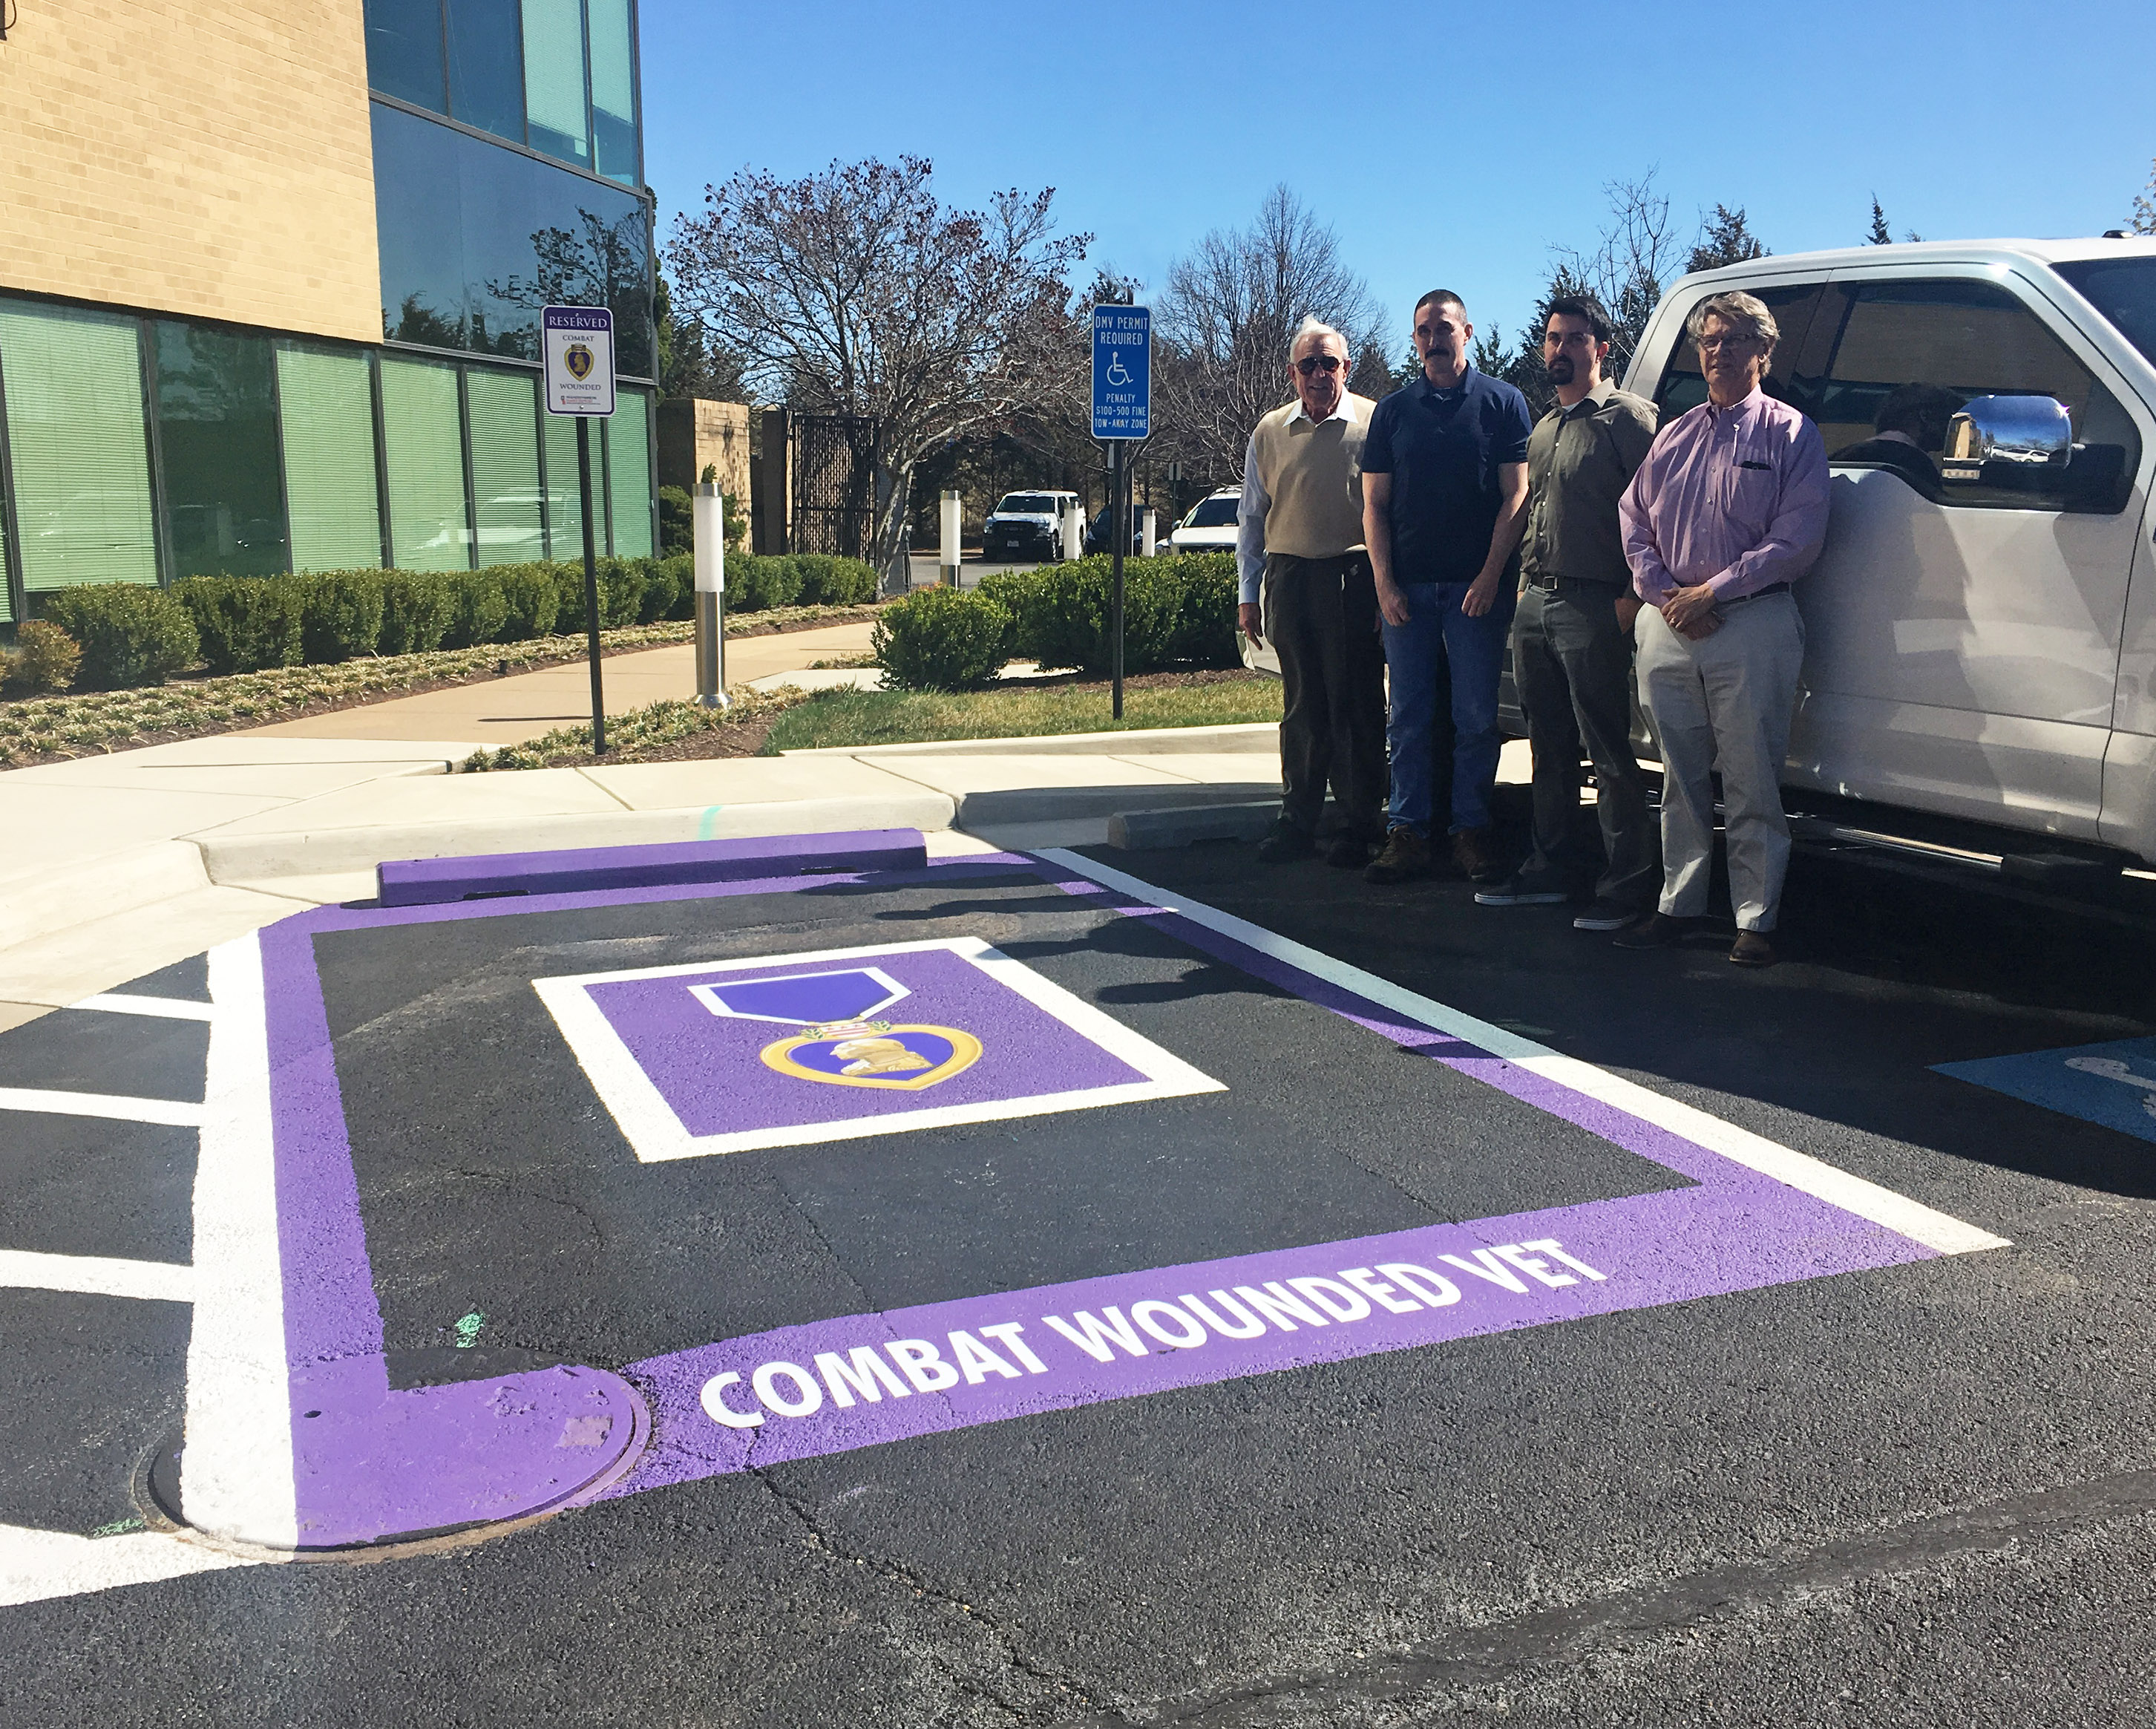empyt_space: (222, 815, 2025, 1477)
